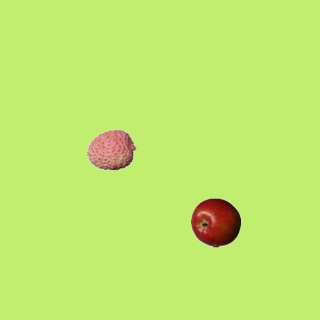Apple Braeburn: (190, 197, 240, 247)
Lychee: (86, 124, 136, 174)
